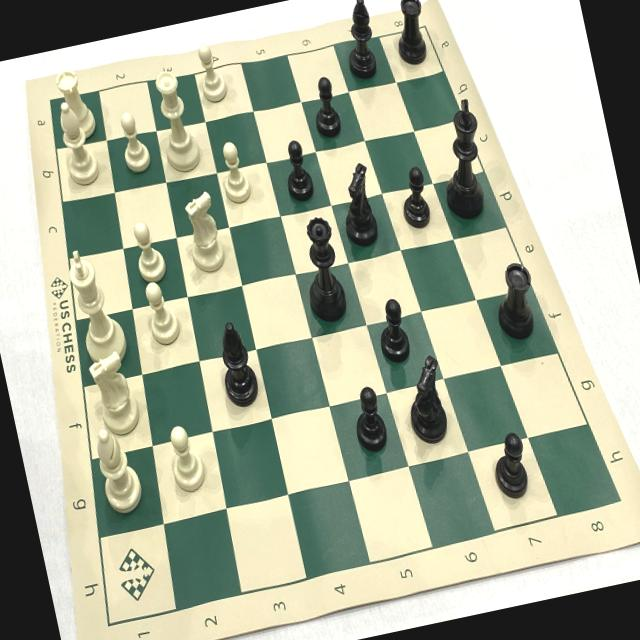black-bishop: (208, 316, 266, 416), (332, 0, 384, 87)
black-king: (425, 89, 501, 222)
black-knight: (394, 342, 458, 453), (328, 156, 386, 254)
black-pawn: (482, 426, 536, 506), (343, 379, 392, 460), (368, 289, 416, 368), (302, 70, 348, 146), (392, 162, 437, 235), (274, 133, 318, 206)
black-queen: (290, 205, 354, 330)
black-rook: (485, 255, 548, 354), (384, 0, 436, 73)
white-bishop: (86, 422, 152, 521), (48, 92, 106, 193)
white-king: (58, 237, 132, 375)
white-knight: (87, 346, 144, 442), (176, 186, 228, 278)
white-pawn: (156, 418, 211, 498), (138, 276, 188, 352), (188, 34, 234, 110), (126, 214, 172, 288), (211, 136, 256, 210), (112, 104, 156, 178)
white-queen: (144, 61, 207, 180)
white-rook: (48, 60, 102, 147)
